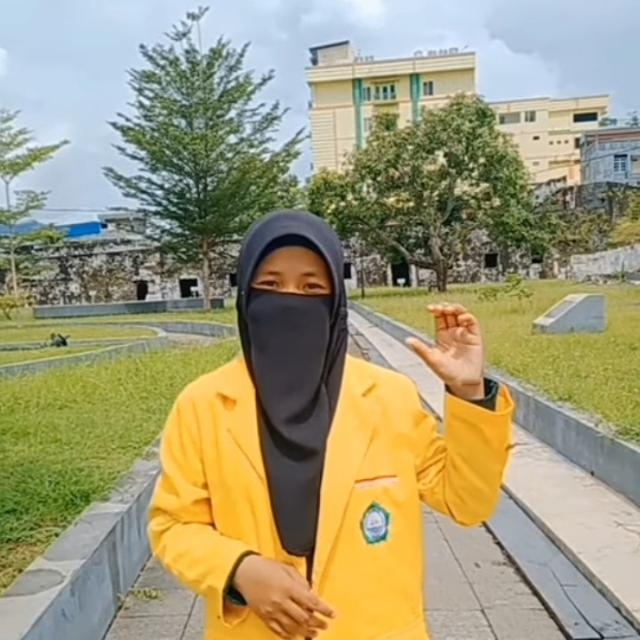C: (404, 299, 486, 393)
